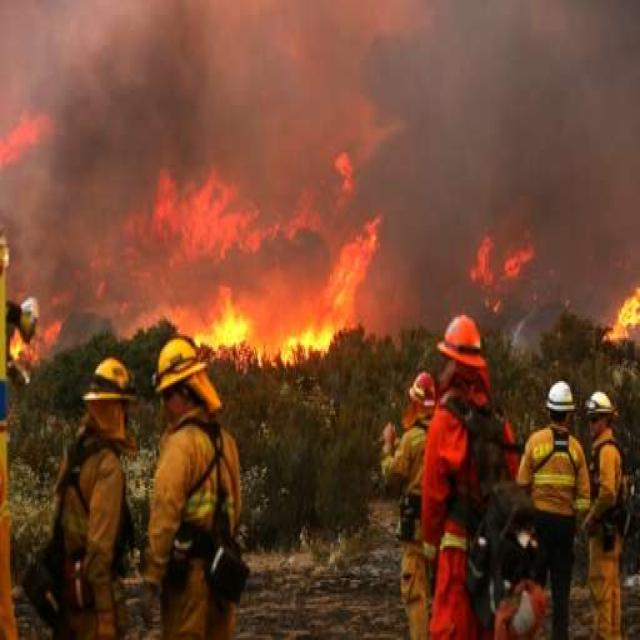fire: (208, 307, 340, 350)
smoke: (132, 6, 640, 160), (56, 17, 128, 221)
